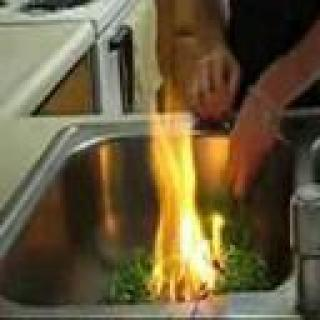fire: (143, 99, 223, 299)
